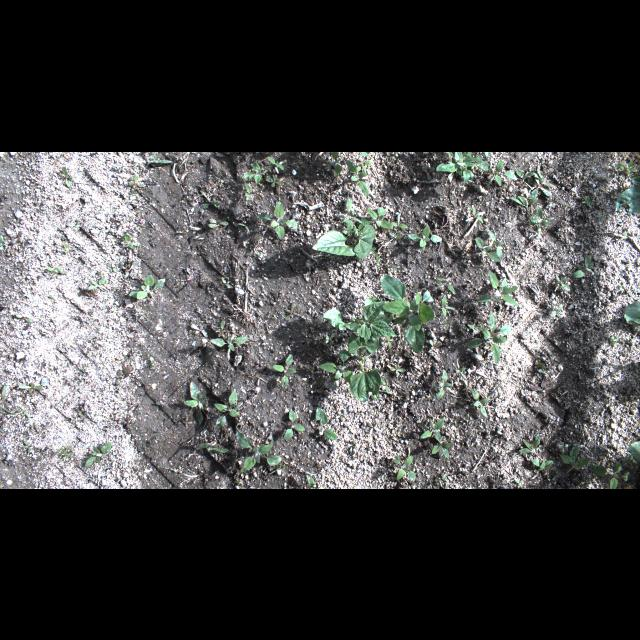crop: (312, 219, 400, 267), (323, 297, 397, 345), (347, 329, 381, 401), (615, 174, 639, 212), (624, 300, 638, 324), (626, 441, 640, 463)
weed: (380, 273, 434, 353), (466, 311, 510, 363), (235, 430, 283, 472), (256, 200, 298, 238), (474, 270, 518, 306), (436, 152, 482, 184), (213, 388, 243, 429), (318, 347, 352, 383), (588, 460, 630, 488), (475, 159, 517, 187), (558, 441, 590, 473), (184, 380, 206, 426), (310, 407, 338, 441), (129, 274, 165, 298), (346, 158, 368, 196), (272, 354, 296, 388), (335, 196, 363, 224), (408, 224, 442, 246), (240, 158, 268, 184), (361, 206, 393, 228), (85, 442, 114, 466), (509, 187, 539, 210), (475, 236, 501, 262), (392, 454, 416, 482), (420, 416, 444, 444), (530, 204, 554, 232), (533, 167, 555, 196), (430, 294, 456, 318), (284, 410, 304, 440), (433, 369, 453, 399), (210, 336, 248, 350), (573, 255, 595, 277), (432, 435, 452, 459), (487, 228, 503, 258), (515, 167, 535, 190), (472, 390, 488, 418), (199, 188, 221, 208), (519, 434, 541, 454), (434, 276, 456, 296), (324, 152, 342, 176), (197, 441, 229, 454), (1, 404, 30, 418), (465, 204, 485, 224), (118, 260, 138, 278), (530, 458, 554, 472), (267, 156, 287, 172), (130, 173, 146, 193), (147, 152, 173, 164), (616, 159, 638, 173), (61, 165, 74, 188), (18, 382, 42, 394), (283, 302, 299, 320), (554, 272, 570, 290), (390, 212, 408, 228), (56, 240, 78, 253), (45, 266, 67, 278), (58, 445, 74, 461), (264, 174, 284, 186), (304, 474, 320, 488), (622, 454, 638, 468), (244, 182, 256, 200), (190, 324, 208, 336), (268, 465, 288, 475), (209, 217, 229, 227), (456, 359, 466, 379), (216, 320, 227, 338), (422, 164, 434, 180), (388, 364, 406, 374), (88, 278, 106, 288), (322, 332, 336, 344), (462, 379, 476, 391), (359, 160, 373, 172), (366, 421, 379, 433), (222, 276, 234, 288), (15, 314, 33, 322), (550, 304, 562, 316), (582, 195, 594, 207), (0, 386, 10, 400), (381, 334, 391, 348), (428, 338, 438, 352), (276, 175, 284, 192), (237, 222, 250, 232), (381, 378, 389, 394), (125, 234, 134, 248), (468, 324, 487, 330), (22, 439, 30, 453), (335, 411, 345, 422), (348, 440, 357, 452), (106, 262, 116, 272), (116, 369, 122, 385), (150, 356, 156, 370), (439, 474, 446, 486), (0, 234, 4, 250), (610, 336, 618, 344), (617, 284, 625, 290), (568, 440, 576, 446), (374, 394, 382, 400), (562, 443, 568, 449), (362, 151, 371, 155), (515, 480, 523, 484), (484, 152, 492, 156)
